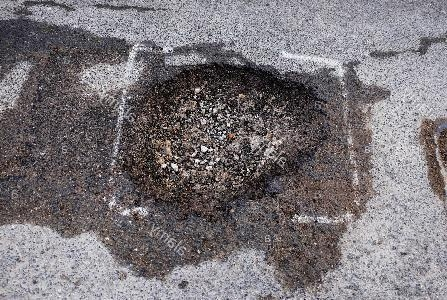pothole: (116, 58, 333, 220)
